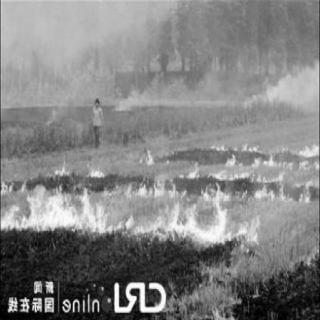Fire: (1, 141, 317, 250)
Smoke: (5, 1, 158, 58), (254, 66, 318, 114), (121, 91, 135, 111)
